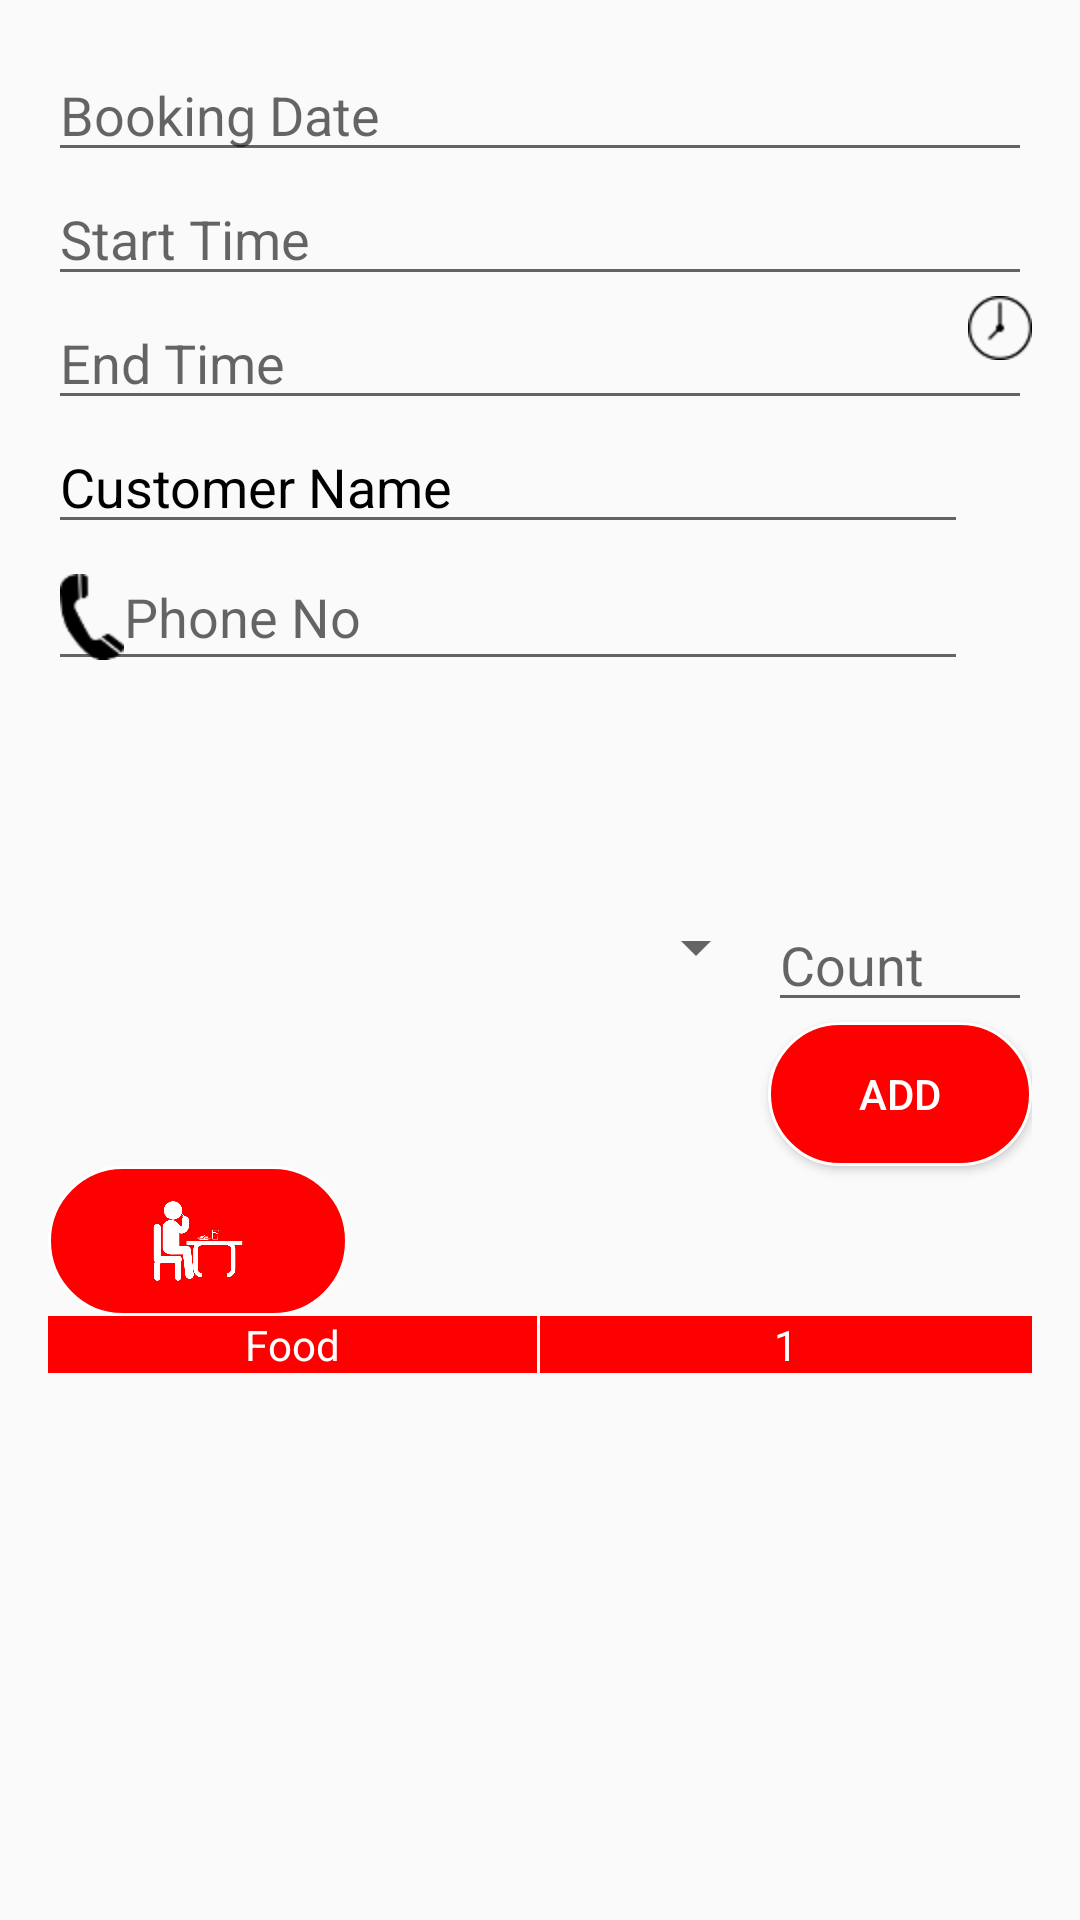

Icon click points for this 1080 × 1920 phone screenshot, format (x=x, y=y):
clock: (x=1000, y=328)
man eat: (x=198, y=1241)
